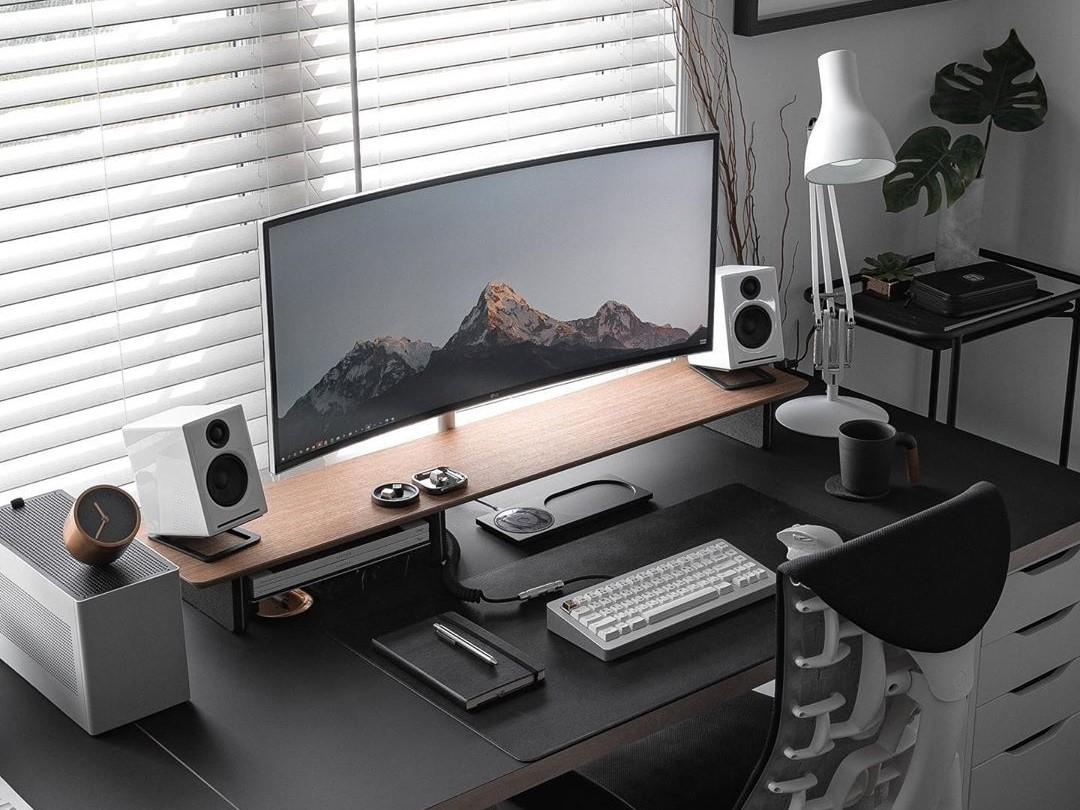keyboard: (524, 532, 789, 670)
monitor: (253, 129, 730, 487)
mouse: (767, 509, 855, 576)
speaker: (110, 397, 276, 542), (680, 253, 797, 391)
